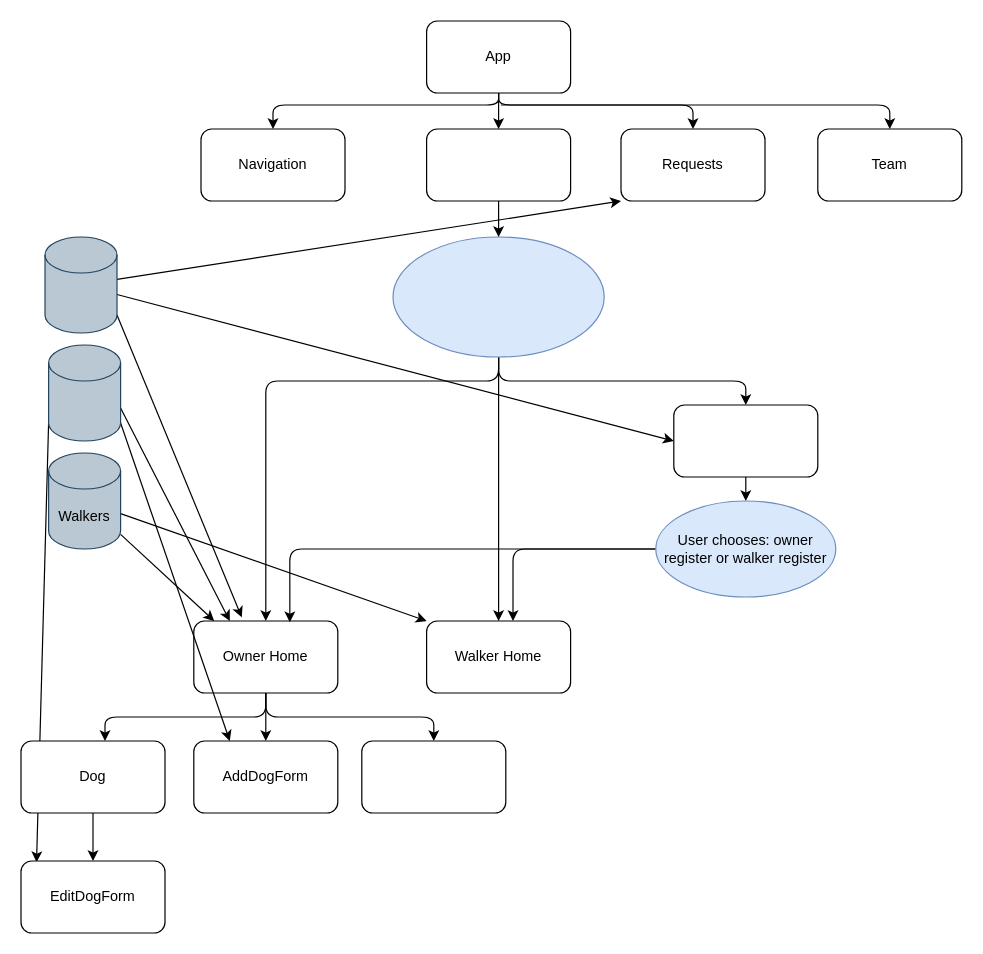
This 983x954 diagram has some shape labels left out. The shapes that lost their labels are listed below. From the top down, each one's centre as x and y in pixels, then its label:
the point at 498,164: Welcome
the point at 80,284: Owners
the point at 498,296: Visitor chooses: Owner login, walker log in or register
the point at 84,392: Dogs
the point at 745,440: Register
the point at 433,776: Walker
